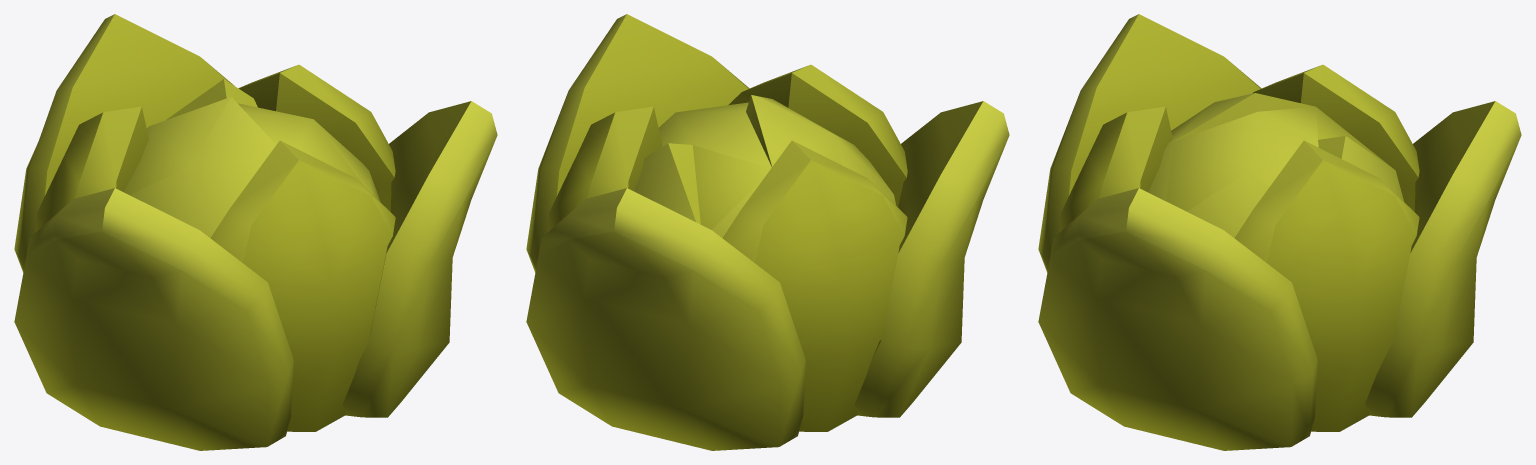
Rendered from Lettuce-yC6B73sG9s.glb.
The picture shows the model from 3 angles, left to right: view 1: azimuth 30°, elevation 25°; view 2: azimuth 150°, elevation 25°; view 3: azimuth 270°, elevation 25°; orthographic projection.
Parts seen in each view (by area): view 1: food_ingredient_lettuce; view 2: food_ingredient_lettuce; view 3: food_ingredient_lettuce.
Boxes of the visible parts, x1,y1,x2,y2 form: food_ingredient_lettuce: [14, 14, 497, 450]; food_ingredient_lettuce: [526, 14, 1009, 450]; food_ingredient_lettuce: [1038, 14, 1521, 450].
Size of the model in its own units: 1.1 by 0.8205 by 1.13.
1 material, 1 textured.
